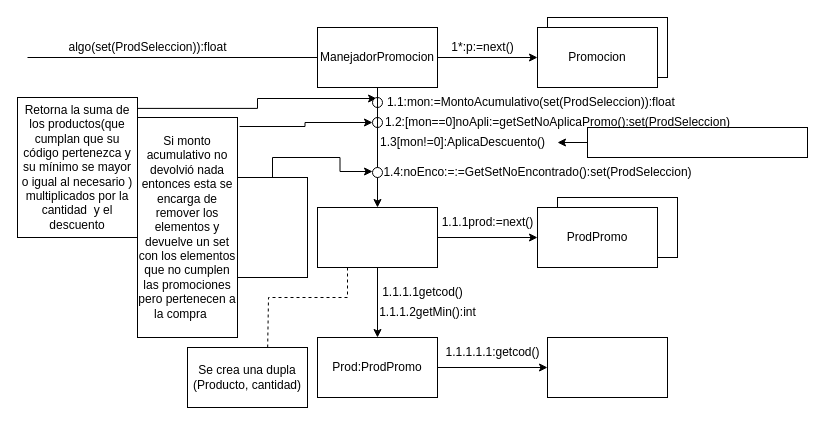
Some shapes in this 825 by 425 pixel diagram are drawn without their labels. The box of each missing label's shape, as (x1, y1, x2, y2) in pixels:
p:Producto: (546, 336, 668, 398)
P:Promocion: (316, 206, 438, 268)
Retorna el set en el cual se seguirá iterando: (236, 176, 308, 278)
Si se aplica el decuento remueve los elementos del set: (586, 126, 808, 158)
